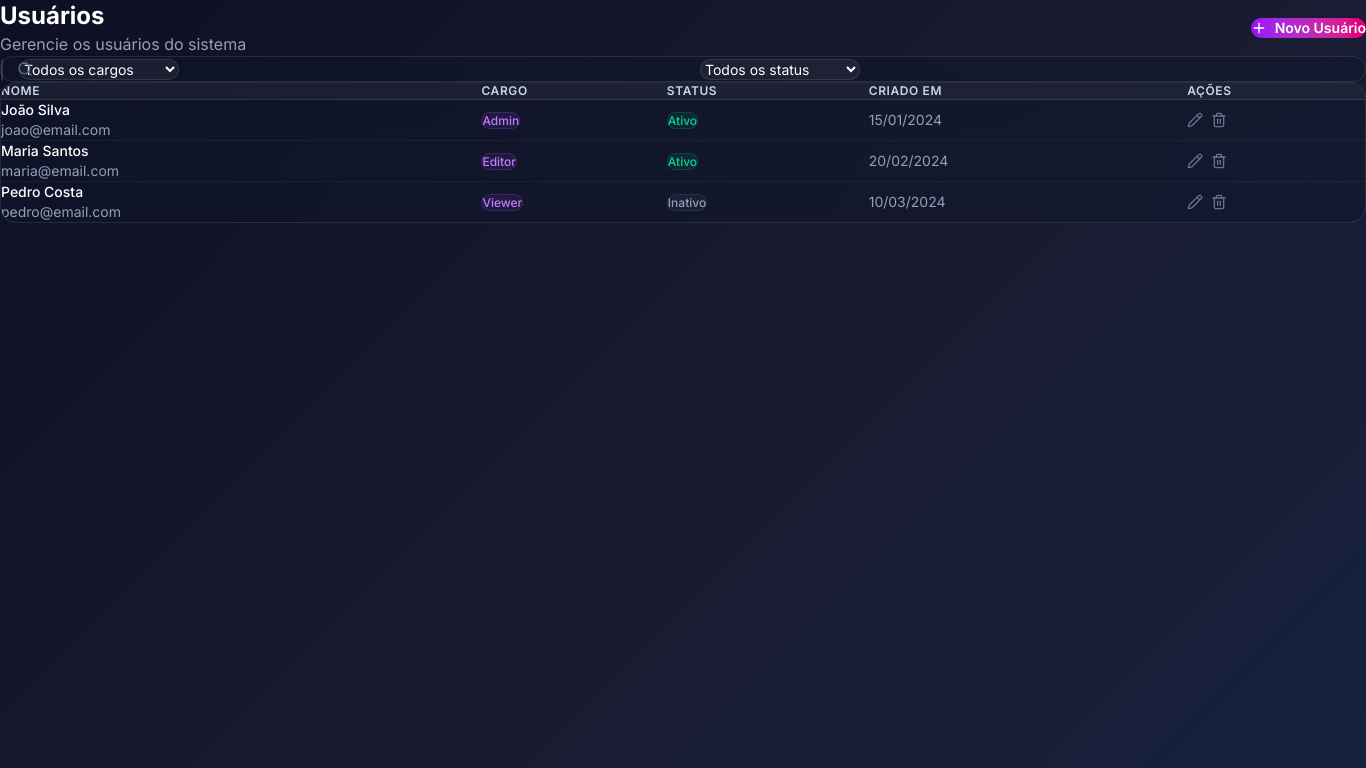
UsersPage › opens delete confirmation dialog
Expected: the text "João Silva" is shown, [1,101,70,118]
Click the button named "excluir" at (1219, 120), box [1211,112,1227,128]
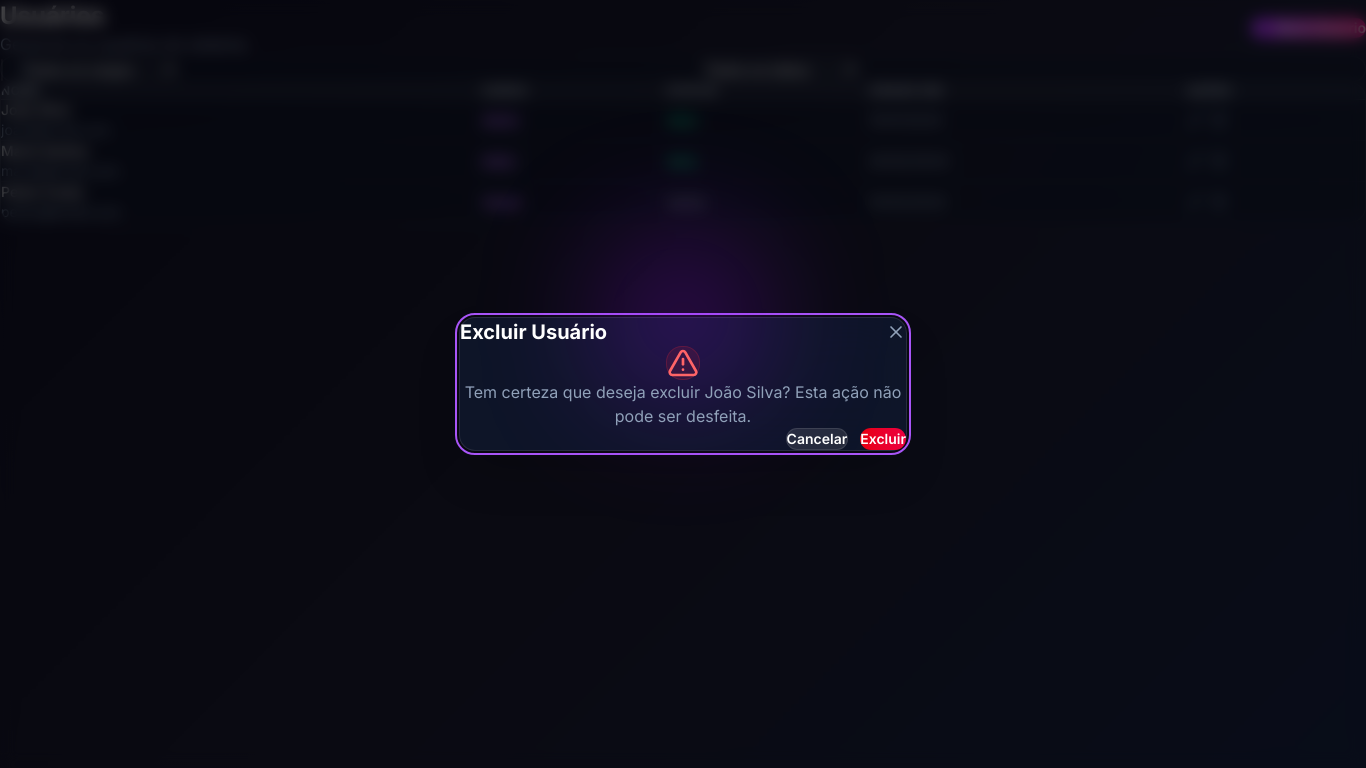
Expected: the heading "Excluir Usuário" is shown, [460,318,607,346]
Expected: the text "Tem certeza que deseja excluir" is shown, [465,382,901,426]
